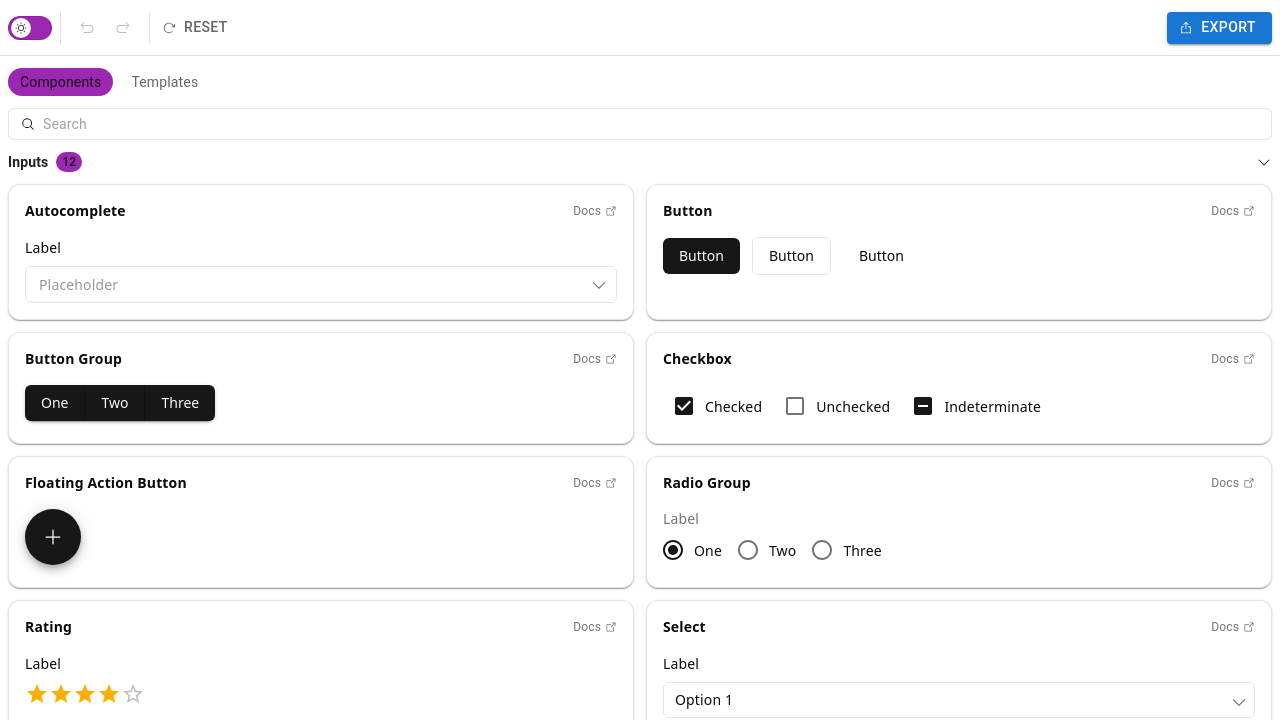
Scenario: PreviewArea (Phase 3) › filters the cards by name through the search box
Type "text" into the field with placeholder "Search" at (651, 124), box top-left (43, 109), bottom-right (1259, 138)
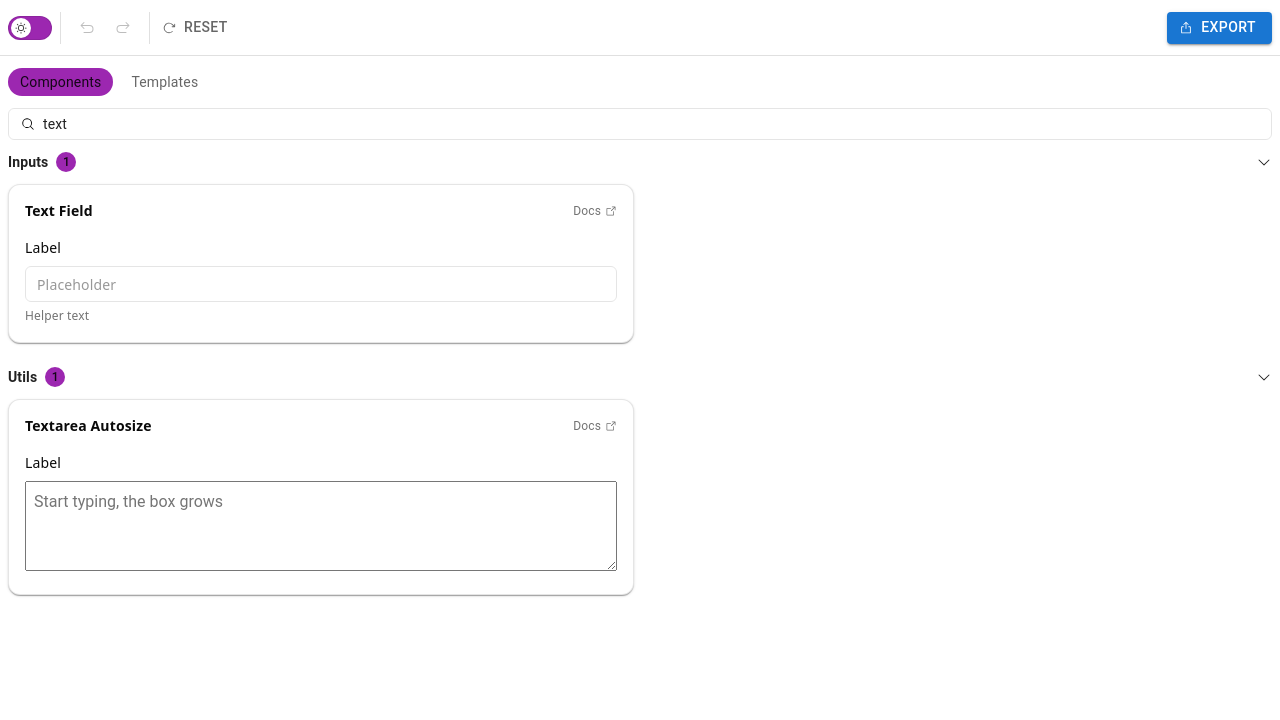
Expected: the text "Text Field" is shown, top-left (25, 201), bottom-right (93, 221)
Expected: the text "Select" is gone
Expected: no elements "Button" are shown
